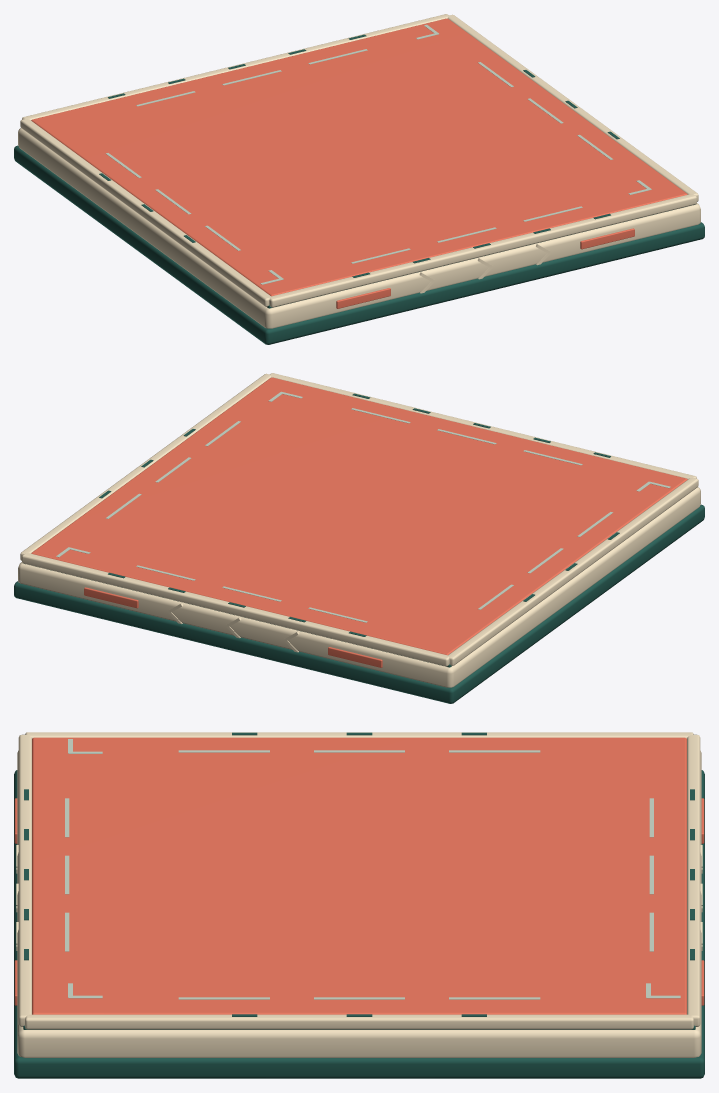
File: athlete_tile_coral.glb
The picture shows the model from 3 angles, top to bottom: view 1: azimuth 30°, elevation 25°; view 2: azimuth 150°, elevation 25°; view 3: azimuth 270°, elevation 25°; orthographic projection. The views are drawn at different scales.
Parts seen in each view (by area): view 1: athlete_tile_coral__surface_coral, athlete_tile_coral__cream, athlete_tile_coral__ink, athlete_tile_coral__line; view 2: athlete_tile_coral__surface_coral, athlete_tile_coral__cream, athlete_tile_coral__ink, athlete_tile_coral__line; view 3: athlete_tile_coral__surface_coral, athlete_tile_coral__cream, athlete_tile_coral__ink, athlete_tile_coral__line.
Boxes of the visible parts, box(x1,y1,x2,y2) form: athlete_tile_coral__surface_coral: box(31, 18, 687, 308); athlete_tile_coral__cream: box(18, 14, 700, 328); athlete_tile_coral__ink: box(14, 34, 704, 344); athlete_tile_coral__line: box(105, 24, 651, 284); athlete_tile_coral__surface_coral: box(31, 377, 687, 667); athlete_tile_coral__cream: box(18, 373, 700, 687); athlete_tile_coral__ink: box(14, 393, 704, 703); athlete_tile_coral__line: box(56, 391, 670, 622); athlete_tile_coral__surface_coral: box(14, 737, 704, 1014); athlete_tile_coral__cream: box(16, 732, 702, 1057); athlete_tile_coral__ink: box(14, 732, 704, 1078); athlete_tile_coral__line: box(65, 739, 680, 999).
Size of the model in its own units: 2.05 by 0.197 by 2.05.
